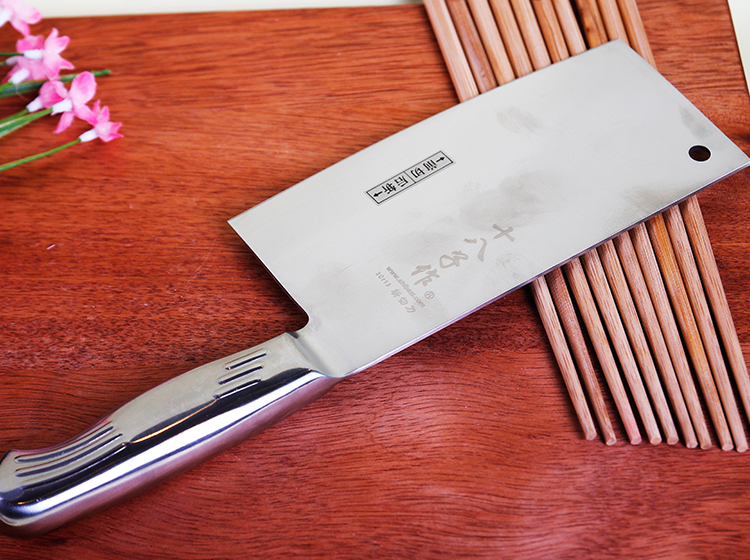knief: (8, 62, 744, 526)
